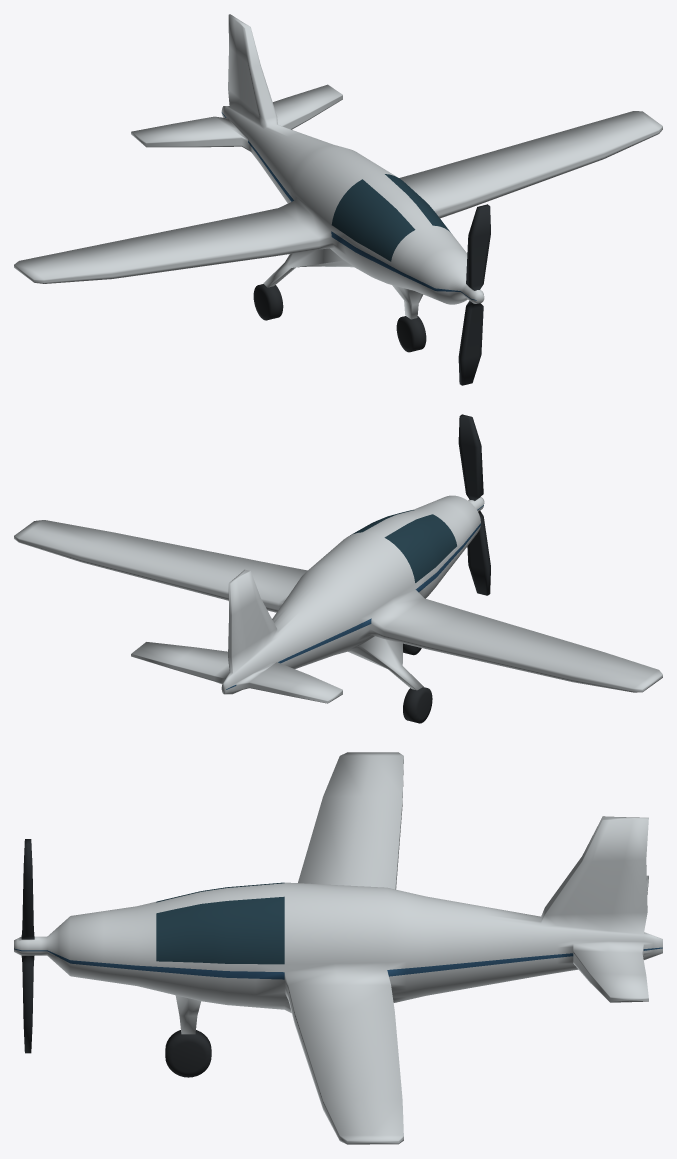
Rendered from A-NEW-20261027-PROPELLER_AIRPLANE-001_LOD1_R1.glb.
3 views of the same model, one above another, from view 1: azimuth 30°, elevation 25°; view 2: azimuth 150°, elevation 25°; view 3: azimuth 270°, elevation 25° (orthographic). The views are drawn at different scales.
Parts seen in each view (by area): view 1: original airplane fuselage wings tail propeller and gear, original fixed wheel 0, original fixed wheel 2; view 2: original airplane fuselage wings tail propeller and gear, original fixed wheel 2; view 3: original airplane fuselage wings tail propeller and gear, original fixed wheel 0.
Part boxes in pixels (box(x1,y1,x2,y2)): original airplane fuselage wings tail propeller and gear: box(14, 14, 662, 385); original fixed wheel 0: box(396, 316, 426, 352); original fixed wheel 2: box(253, 284, 283, 320); original airplane fuselage wings tail propeller and gear: box(14, 414, 662, 703); original fixed wheel 2: box(403, 687, 432, 723); original airplane fuselage wings tail propeller and gear: box(14, 752, 662, 1144); original fixed wheel 0: box(165, 1030, 211, 1077).
Size of the model in its own units: 7.16 by 2.2 by 5.06.
